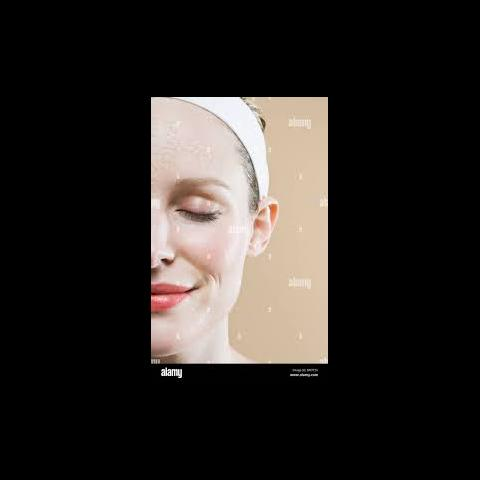closed: (162, 171, 234, 231)
